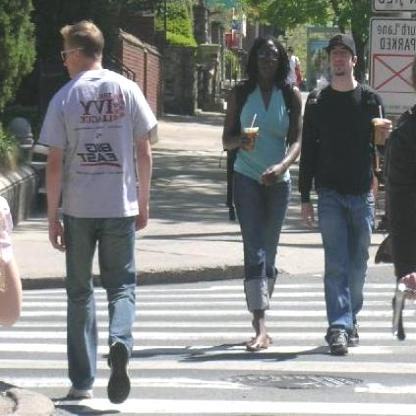ped: (40, 23, 160, 404), (303, 35, 392, 356), (223, 39, 305, 352)
